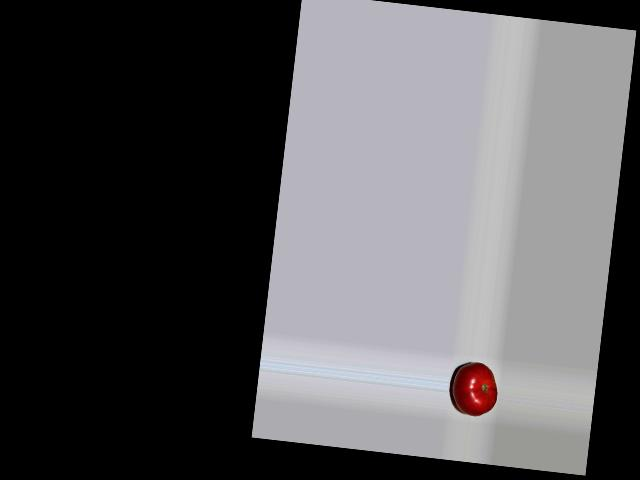tomato: (450, 359, 500, 419)
